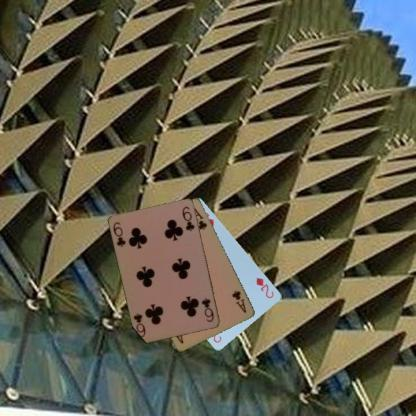2d: (253, 274, 275, 300)
6c: (111, 219, 127, 248), (199, 296, 215, 323)
Ac: (230, 288, 248, 314)
